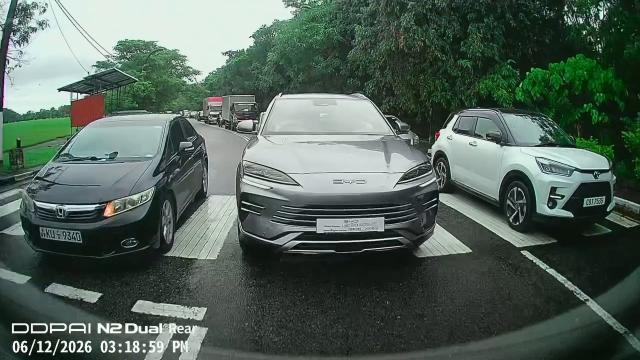illegal overtaking: (29, 94, 223, 273)
number plate: (39, 223, 86, 250)
